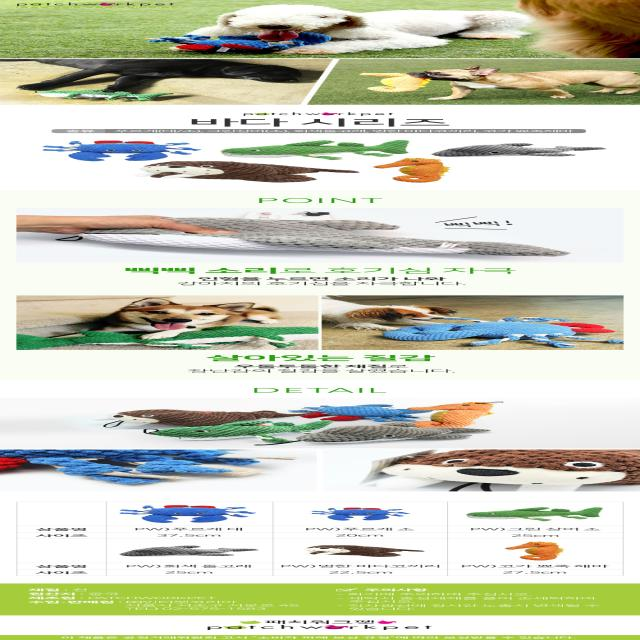walrus: (106, 161, 370, 184)
